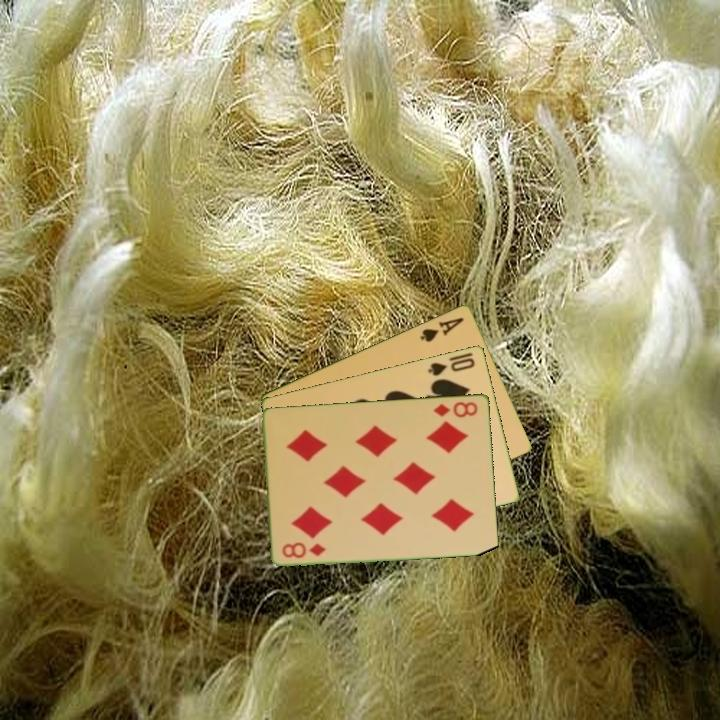10s: (425, 354, 478, 379)
8d: (430, 398, 480, 420), (279, 539, 329, 560)
As: (417, 313, 467, 345)
